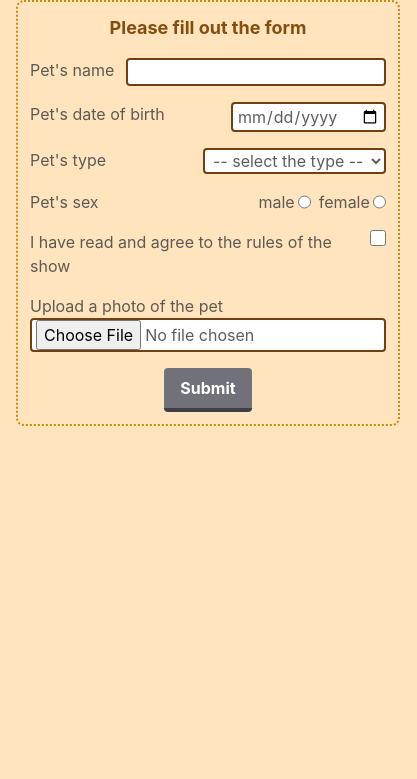
Test: Form component › renders erros if submit is clicked when form is empty
Click the button.
click(208, 390)  # box [164, 368, 252, 412]
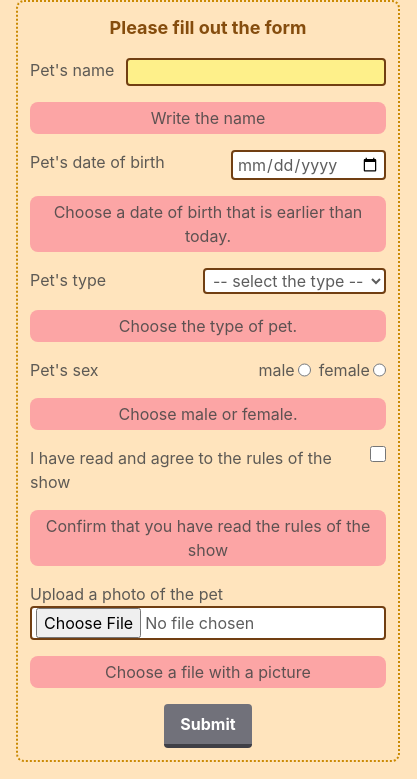
Expected: the text "Write the name" is shown, [30, 102, 386, 134]
Expected: the text "Choose a date of birth that is earlier than today." is shown, [30, 196, 386, 252]
Expected: the text "Choose the type of pet." is shown, [30, 310, 386, 342]
